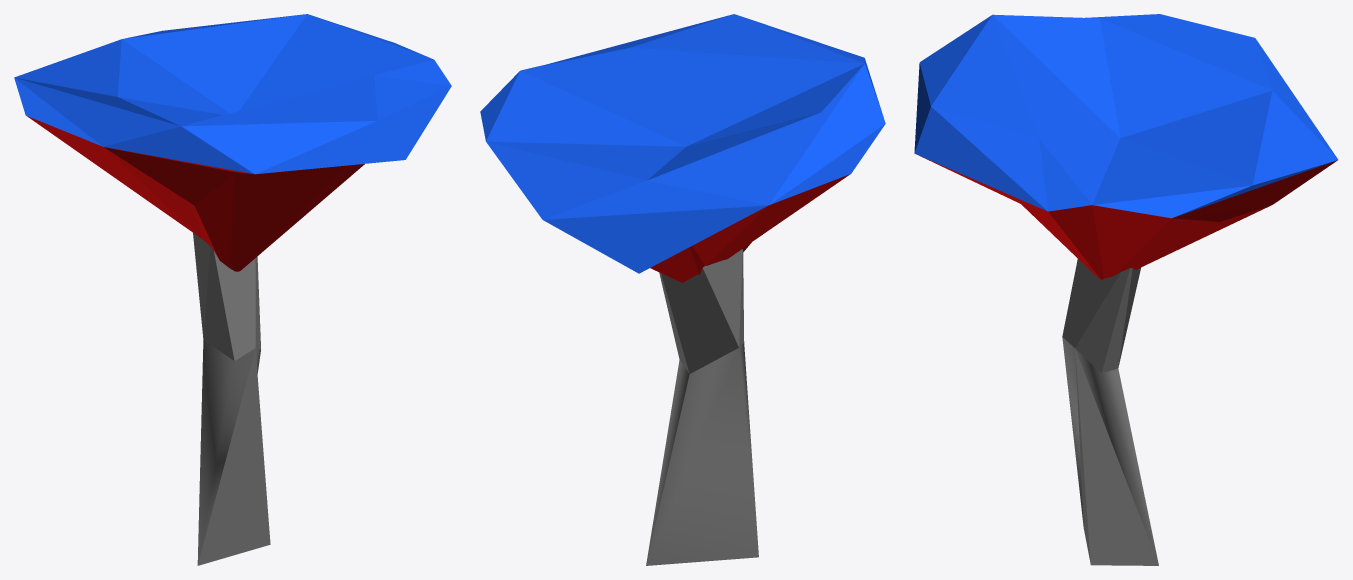
The model's file is FungiRussula01.fbx.
The picture shows the model from 3 angles, left to right: view 1: azimuth 30°, elevation 25°; view 2: azimuth 150°, elevation 25°; view 3: azimuth 270°, elevation 25°; orthographic projection. The views are drawn at different scales.
Visible parts, largest first — view 1: FungiRussula01; view 2: FungiRussula01; view 3: FungiRussula01.
Part boxes in pixels (bbox=[...]): FungiRussula01: bbox=[14, 14, 451, 565]; FungiRussula01: bbox=[480, 14, 885, 565]; FungiRussula01: bbox=[914, 14, 1338, 565].
Bounding box in the file's own units: 35.81 × 44.56 × 35.43.
